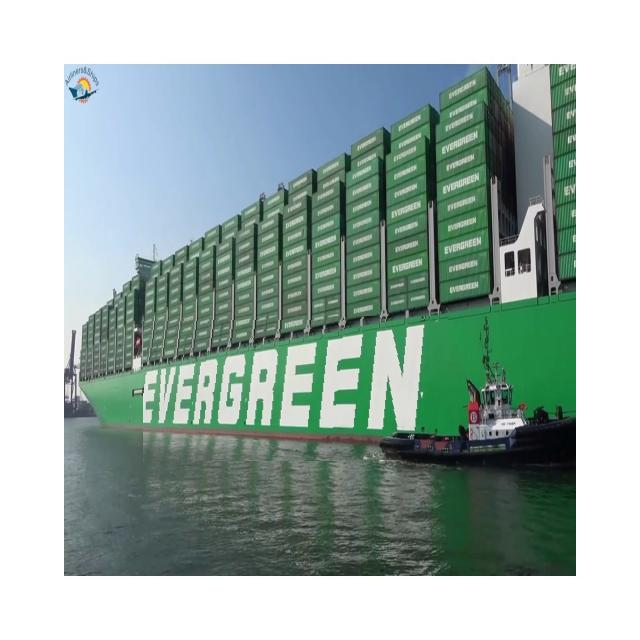OCR: (143, 316, 449, 462)
